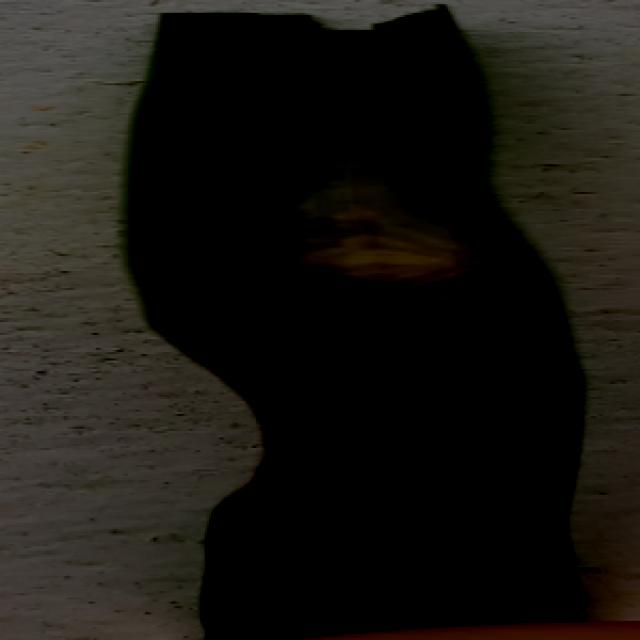Brown_Spot: (242, 130, 504, 322)
